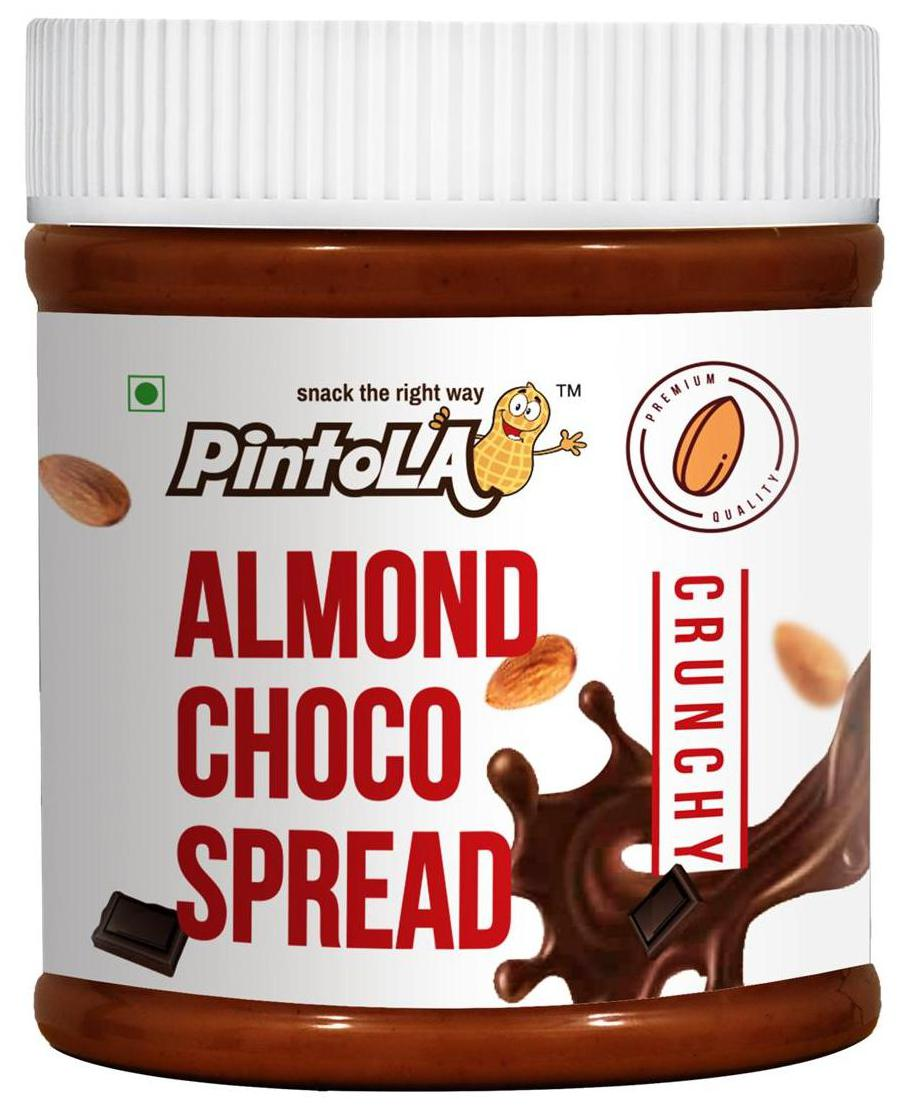JAR: (15, 7, 889, 1107)
